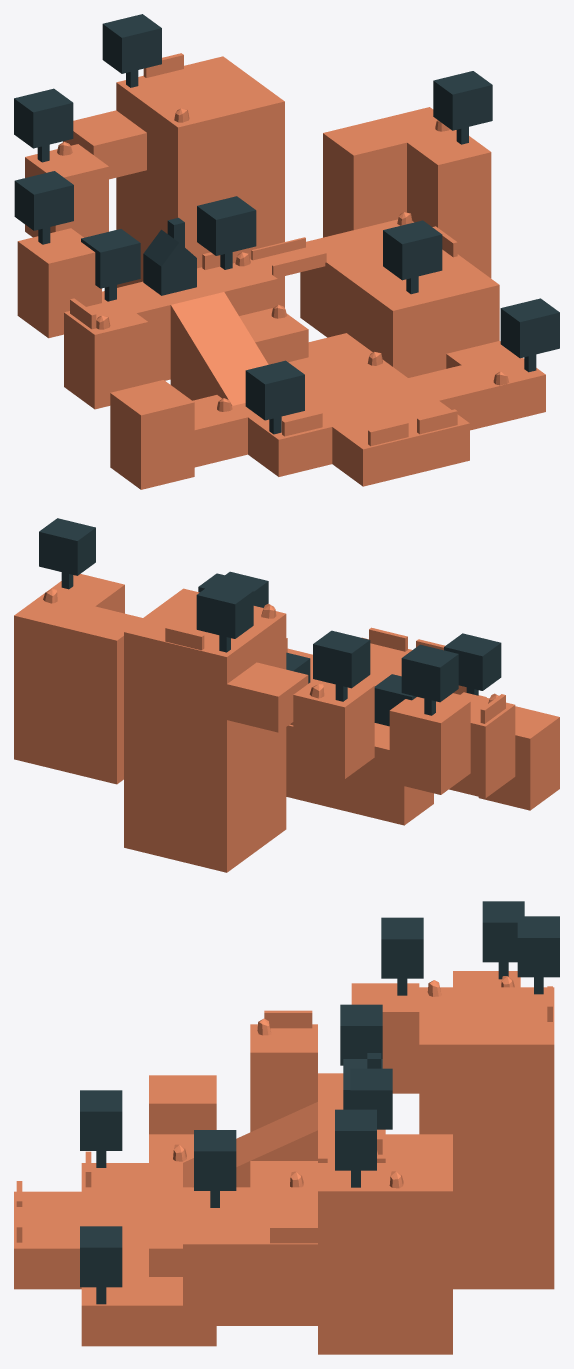
Rendered from garden_collision.glb.
3 views of the same model, one above another, from view 1: azimuth 30°, elevation 25°; view 2: azimuth 150°, elevation 25°; view 3: azimuth 270°, elevation 25° (orthographic). The views are drawn at different scales.
Parts seen in each view (by area): view 1: Solid ground (×32), Canopy (×9), Walkable slope (×2), House, Fence barrier (×3), Rail barrier (×2), Continuous deck; view 2: Solid ground (×16), Canopy (×8), Fence barrier (×3); view 3: Solid ground (×31), Canopy (×9), Walkable slope (×2), Fence barrier (×2), House.
Boxes of the visible parts, x1=… form: Solid ground (×32): x1=17, y1=56, x2=545, y2=489; Canopy (×9): x1=14, y1=14, x2=559, y2=420; Walkable slope (×2): x1=170, y1=292, x2=268, y2=405; House: x1=143, y1=229, x2=196, y2=295; Fence barrier (×3): x1=282, y1=409, x2=457, y2=446; Rail barrier (×2): x1=251, y1=237, x2=326, y2=275; Continuous deck: x1=253, y1=247, x2=325, y2=277; Solid ground (×16): x1=14, y1=574, x2=559, y2=872; Canopy (×8): x1=39, y1=518, x2=501, y2=726; Fence barrier (×3): x1=165, y1=626, x2=505, y2=723; Solid ground (×31): x1=14, y1=971, x2=554, y2=1354; Canopy (×9): x1=80, y1=901, x2=559, y2=1287; Walkable slope (×2): x1=183, y1=1102, x2=317, y2=1187; Fence barrier (×2): x1=264, y1=1010, x2=317, y2=1243; House: x1=343, y1=1059, x2=382, y2=1109.
Bounding box in the file's own units: 393 × 251 × 388.
Materials: 1 (1 with a texture image).
